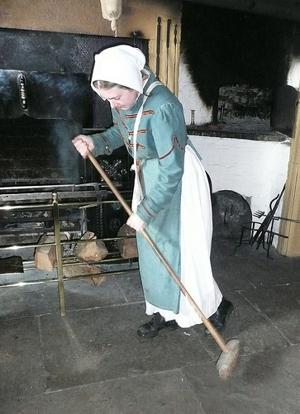person: (72, 45, 231, 337)
